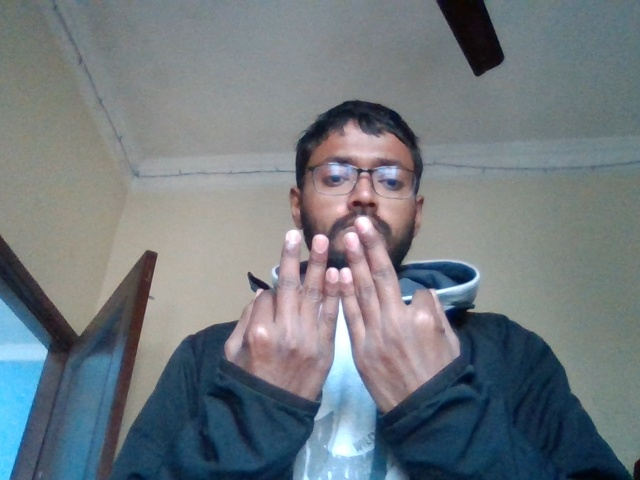family: (238, 221, 466, 391)
